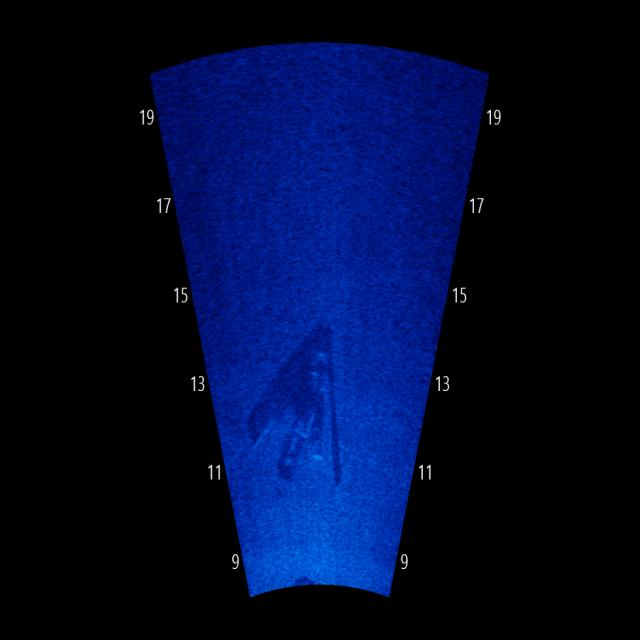triangle: (237, 308, 365, 506)
